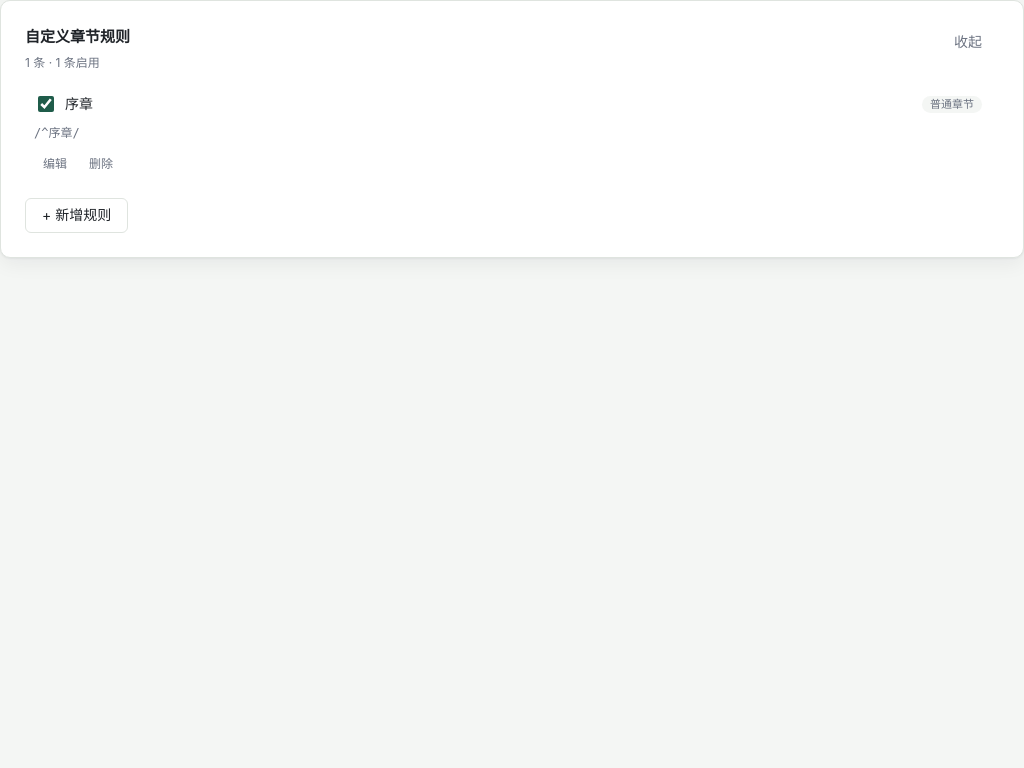
Scenario: CustomRulesPanel › shows Chinese validation for an invalid pattern
Click the button with test id "rule-edit". click: (55, 164)
box: [34,151,76,177]
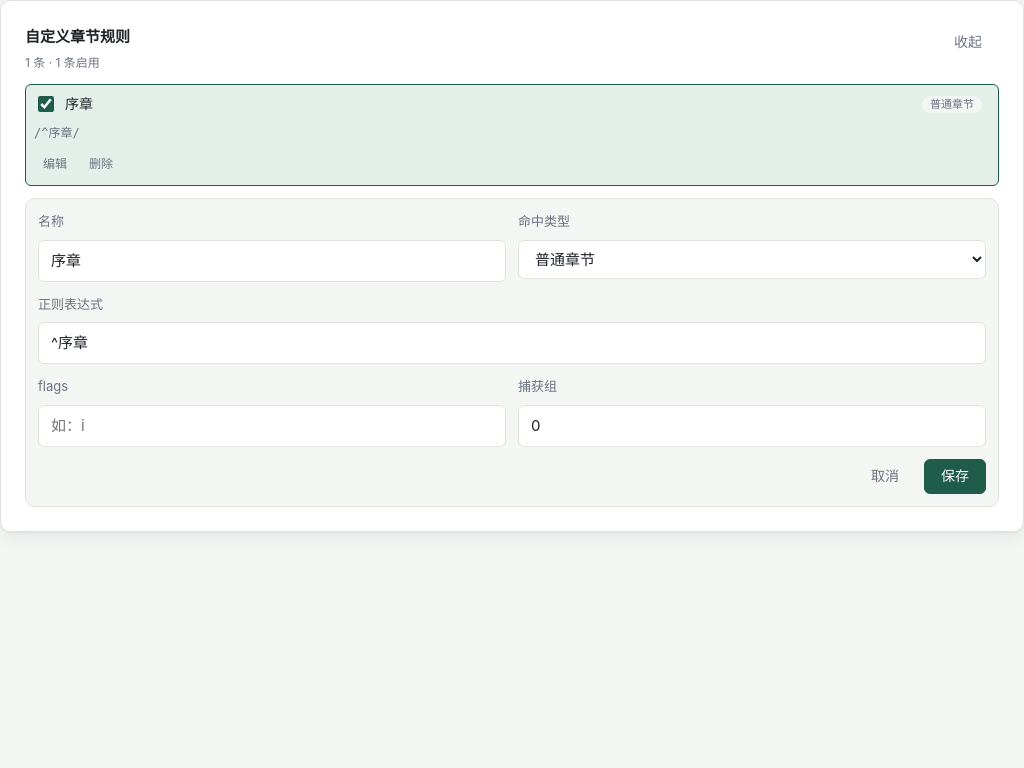
Replace the text in the field with test id "rule-pattern" with "(". click: (512, 343)
box: [38,322,986,364]
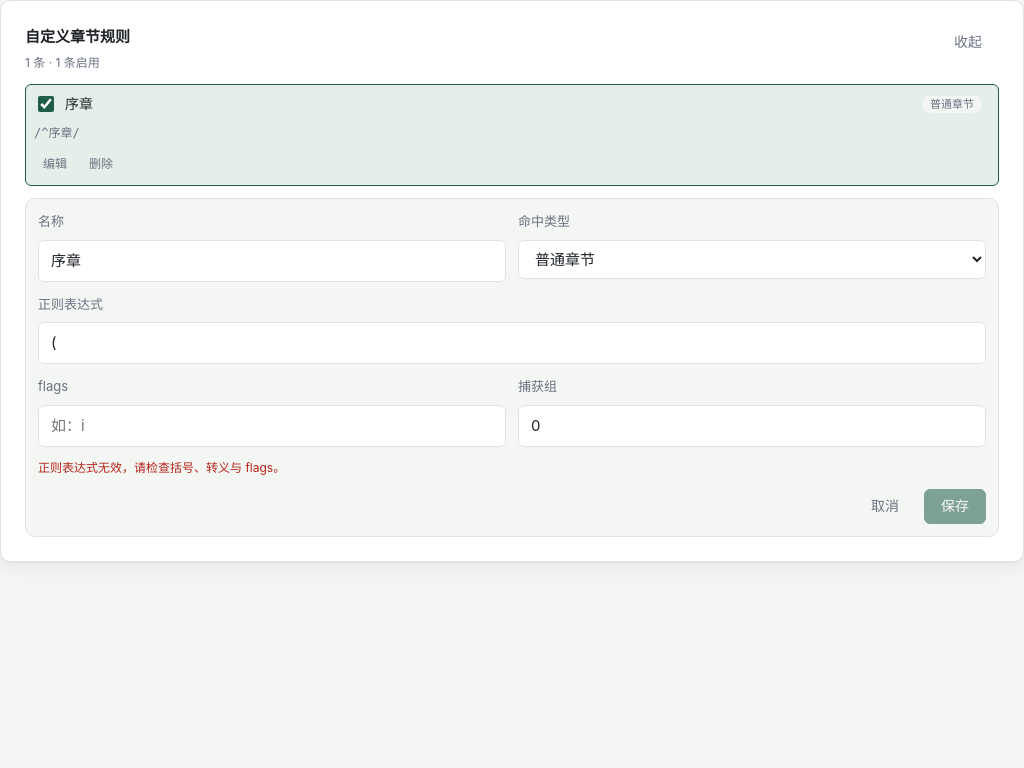
expect the message with test id "rule-error" shows "正则表达式无效": met, box [38,460,285,475]
expect the button with test id "rule-save" is disabled: met, box [924,489,986,524]
